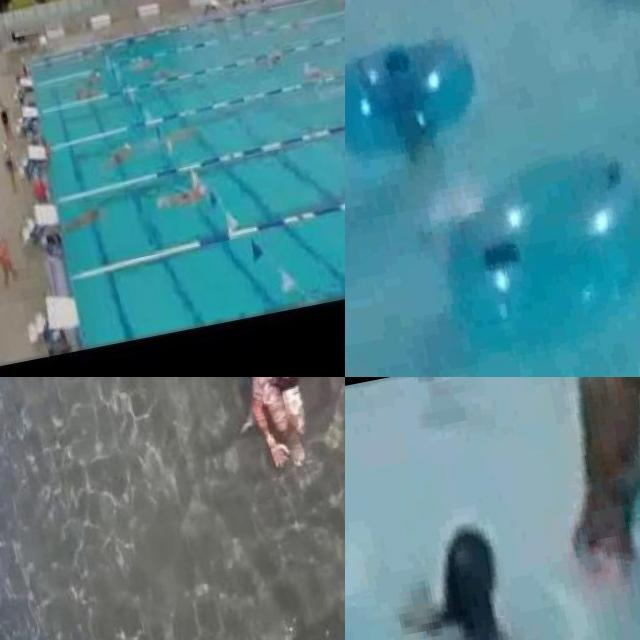drowning: (345, 474, 614, 640), (398, 140, 514, 255)
swimming: (221, 377, 345, 476), (160, 179, 210, 218), (66, 72, 105, 100), (120, 50, 156, 78), (70, 205, 102, 232), (102, 140, 132, 167), (154, 58, 176, 84), (262, 49, 284, 74), (308, 66, 330, 87)
